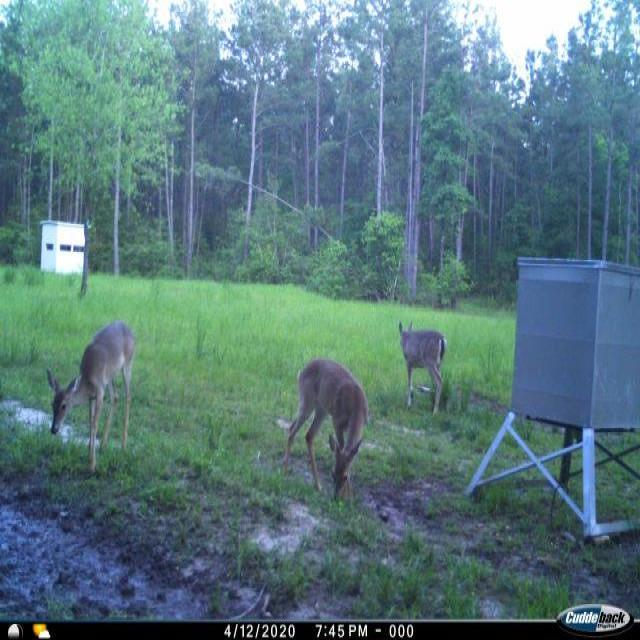deer: (43, 314, 142, 478), (278, 352, 372, 508), (394, 318, 454, 417)
